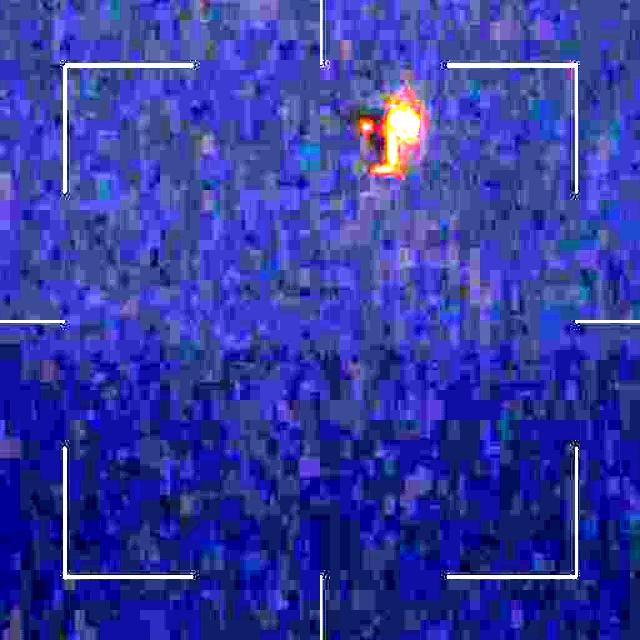bird: (336, 105, 422, 175)
